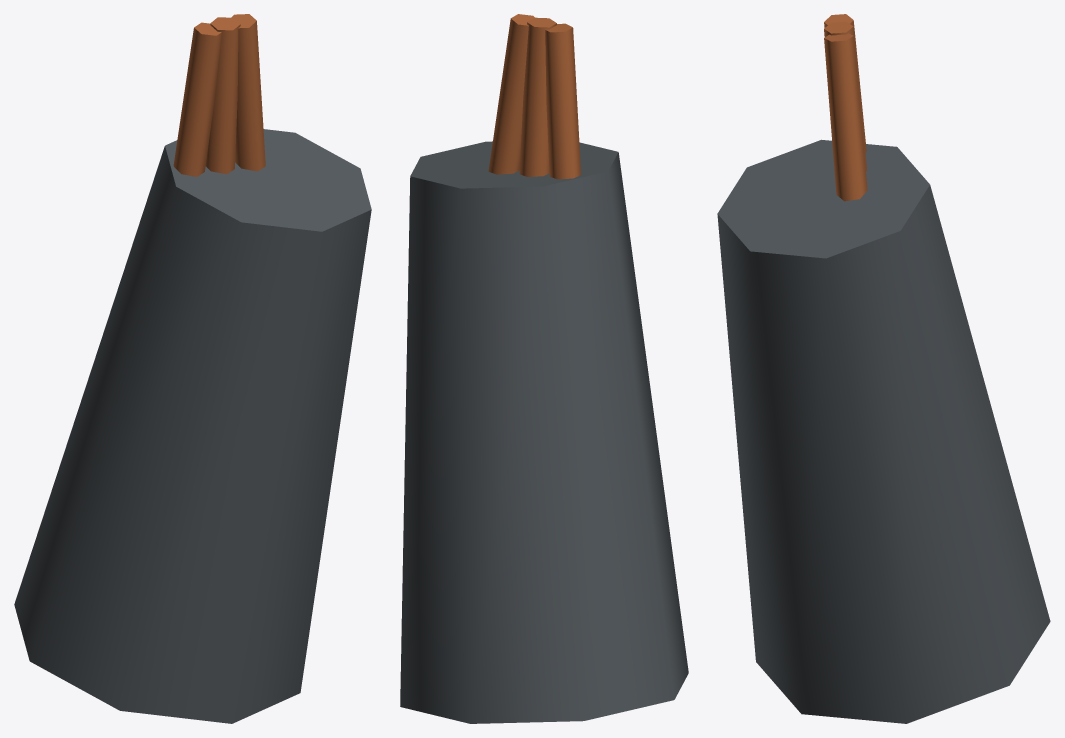
The model's file is off_13_bolt_case.glb.
3 renders of one model, left to right at view 1: azimuth 30°, elevation 25°; view 2: azimuth 150°, elevation 25°; view 3: azimuth 270°, elevation 25°, orthographic.
Visible parts, largest first — view 1: quiver, bolt_0, bolt_2, bolt_1; view 2: quiver, bolt_0, bolt_2, bolt_1; view 3: quiver, bolt_2, bolt_1.
Part boxes in pixels (left/top/right/bottom): quiver: left=14, top=129, right=371, bottom=723; bolt_0: left=173, top=22, right=221, bottom=176; bolt_2: left=231, top=14, right=265, bottom=171; bolt_1: left=205, top=17, right=240, bottom=174; quiver: left=400, top=141, right=688, bottom=723; bolt_0: left=545, top=23, right=581, bottom=179; bolt_2: left=488, top=14, right=534, bottom=174; bolt_1: left=519, top=17, right=556, bottom=176; quiver: left=717, top=139, right=1050, bottom=723; bolt_2: left=824, top=33, right=867, bottom=201; bolt_1: left=824, top=21, right=866, bottom=171.
Bounding box in the file's own units: 0.4037 × 0.8808 × 0.4026.
